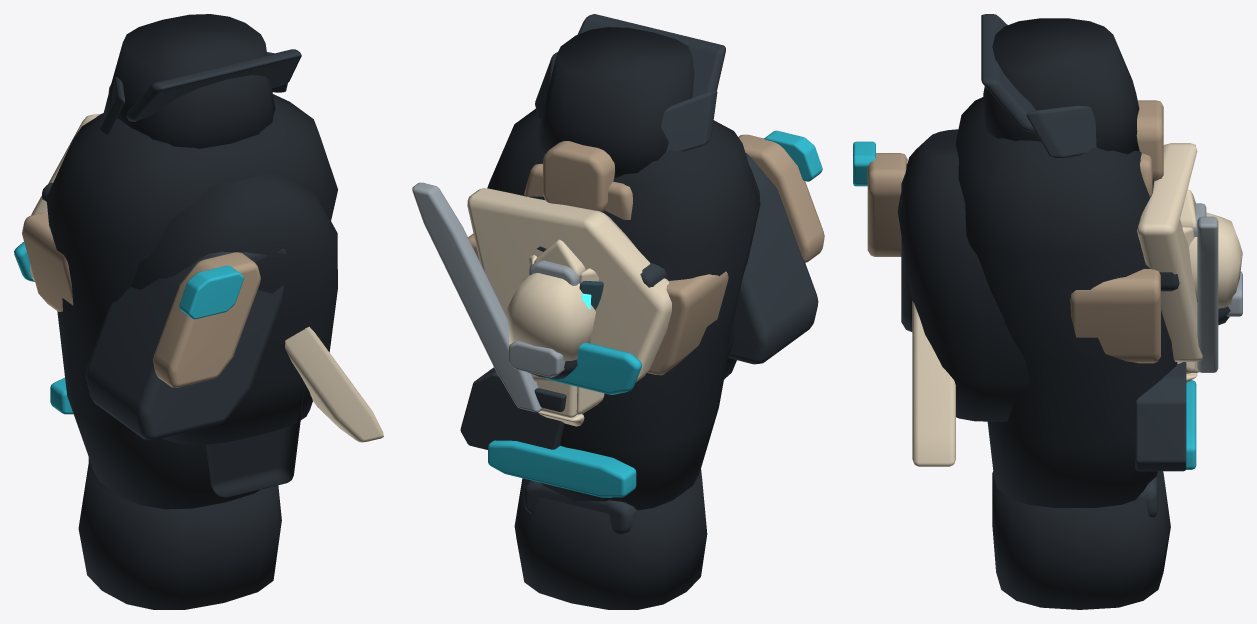
File: WraithSuit.fbx
3 renders of one model, left to right at view 1: azimuth 30°, elevation 25°; view 2: azimuth 150°, elevation 25°; view 3: azimuth 270°, elevation 25°, orthographic. The views are drawn at different scales.
Parts seen in each view (by area): view 1: Torso_Mount, Helmet_Mount, Pelvis_Mount; view 2: Torso_Mount, LeftBoot_Mount, Pelvis_Mount, LeftShin_Mount, Helmet_Mount, RightThigh_Mount; view 3: Torso_Mount, Helmet_Mount, Pelvis_Mount, LeftBoot_Mount, LeftShin_Mount.
Boxes of the visible parts, bbox=[...] form: Torso_Mount: bbox=[14, 14, 383, 609]; Helmet_Mount: bbox=[130, 171, 337, 497]; Pelvis_Mount: bbox=[22, 182, 73, 311]; Torso_Mount: bbox=[412, 14, 824, 609]; LeftBoot_Mount: bbox=[507, 273, 595, 379]; Pelvis_Mount: bbox=[468, 233, 728, 375]; LeftShin_Mount: bbox=[542, 141, 614, 212]; Helmet_Mount: bbox=[529, 165, 759, 426]; RightThigh_Mount: bbox=[604, 181, 632, 219]; Torso_Mount: bbox=[853, 14, 1218, 609]; Helmet_Mount: bbox=[897, 129, 1198, 421]; Pelvis_Mount: bbox=[1070, 203, 1206, 363]; LeftBoot_Mount: bbox=[1189, 212, 1242, 325]; LeftShin_Mount: bbox=[1136, 100, 1163, 180].
Size of the model in its own units: 0.3367 by 0.637 by 0.428.
